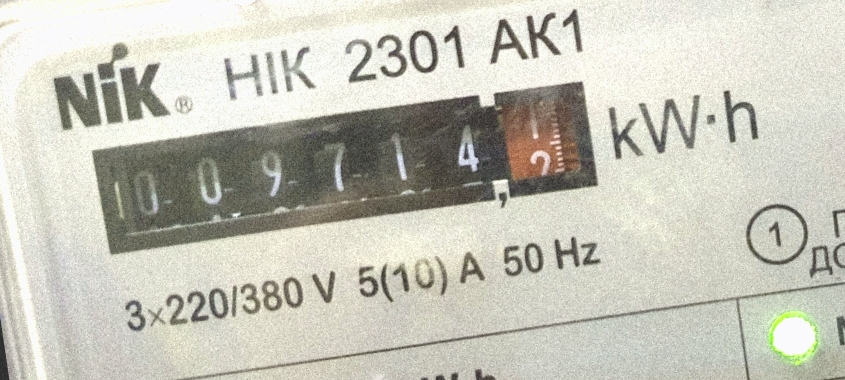0: (127, 163, 163, 221), (191, 151, 224, 208)
1: (383, 126, 413, 184), (521, 98, 542, 142)
2: (525, 145, 553, 178)
4: (447, 120, 483, 177)
7: (320, 138, 353, 195)
9: (252, 144, 288, 200)
screen: (74, 59, 617, 278)
